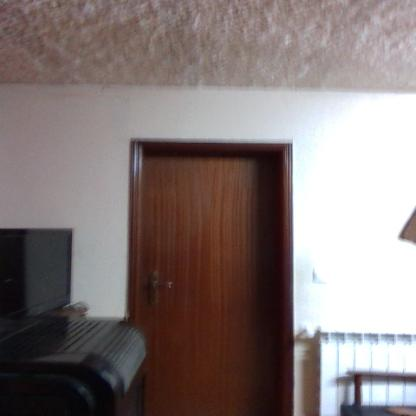closed: (108, 113, 302, 416)
